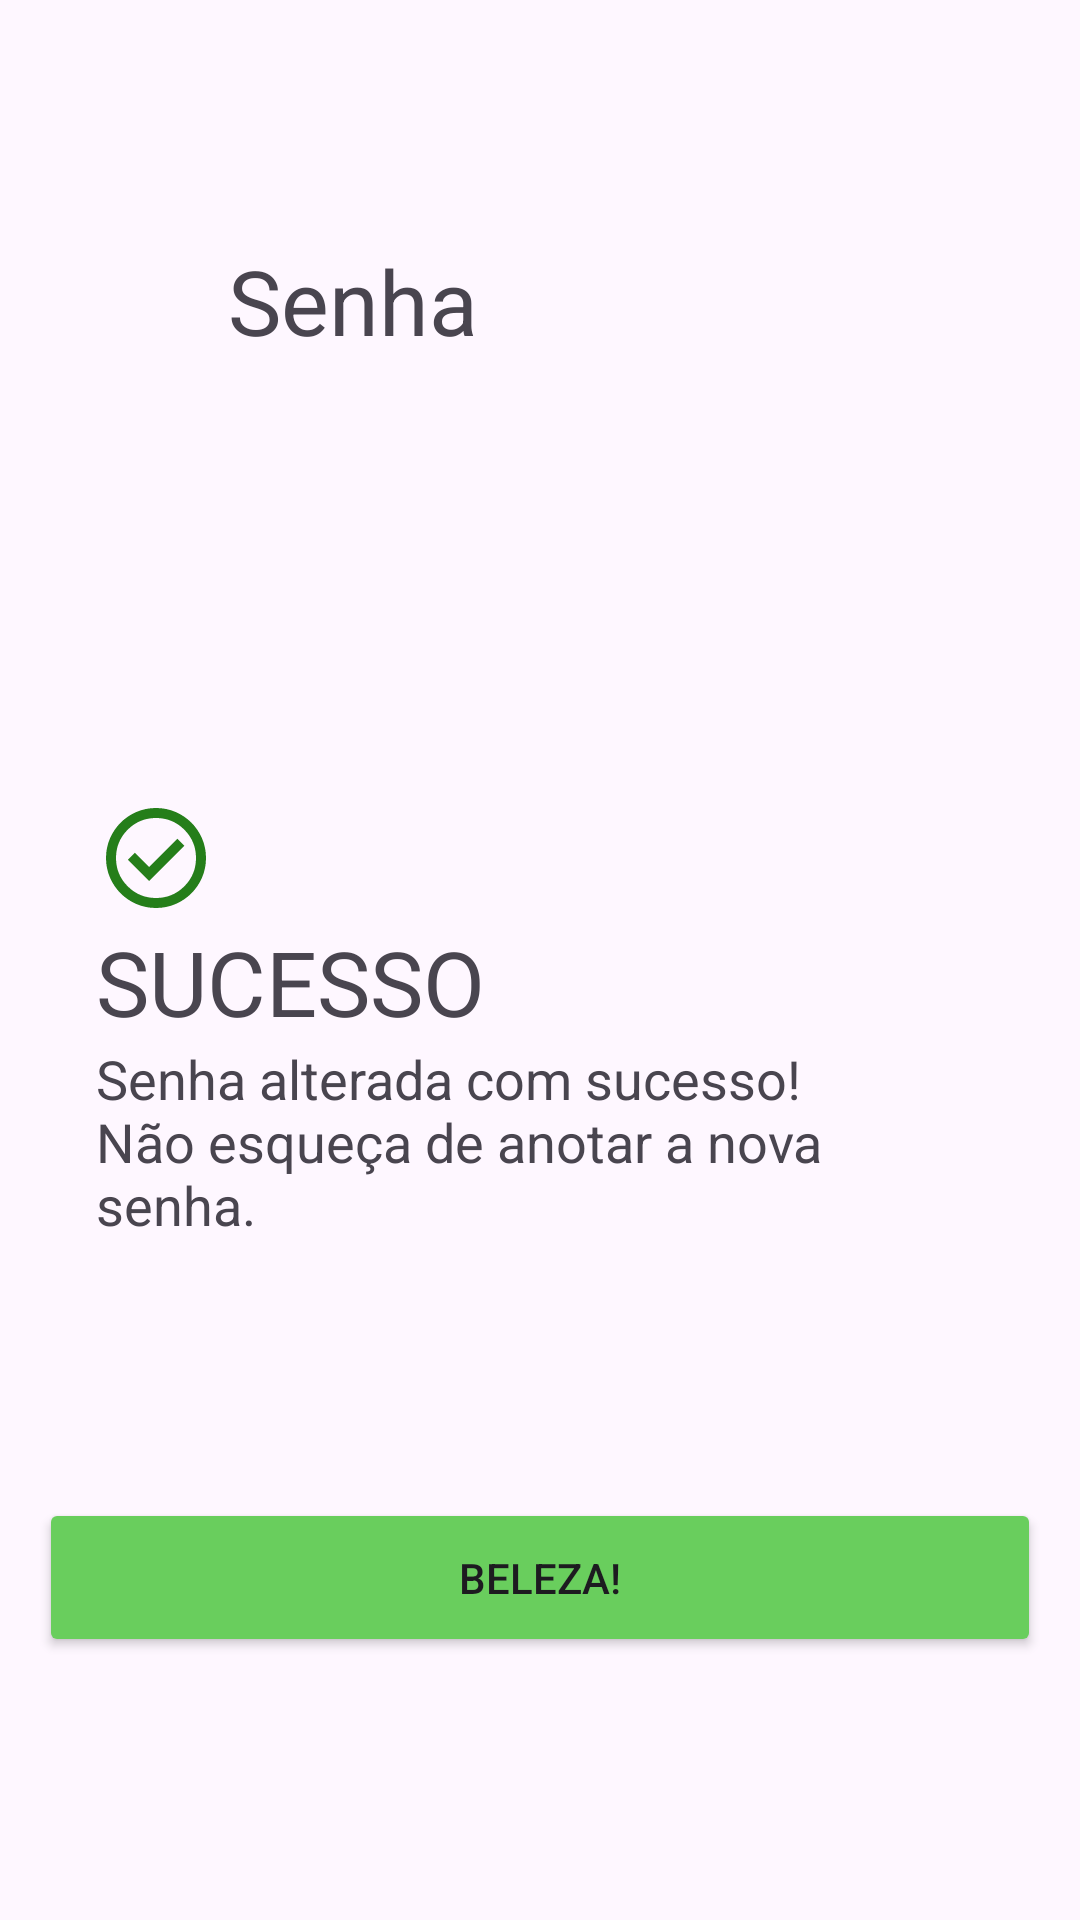

Screen size 1080x1920. Icon name, then its center in pixels as point (x, y):
check circle: point (156, 858)
